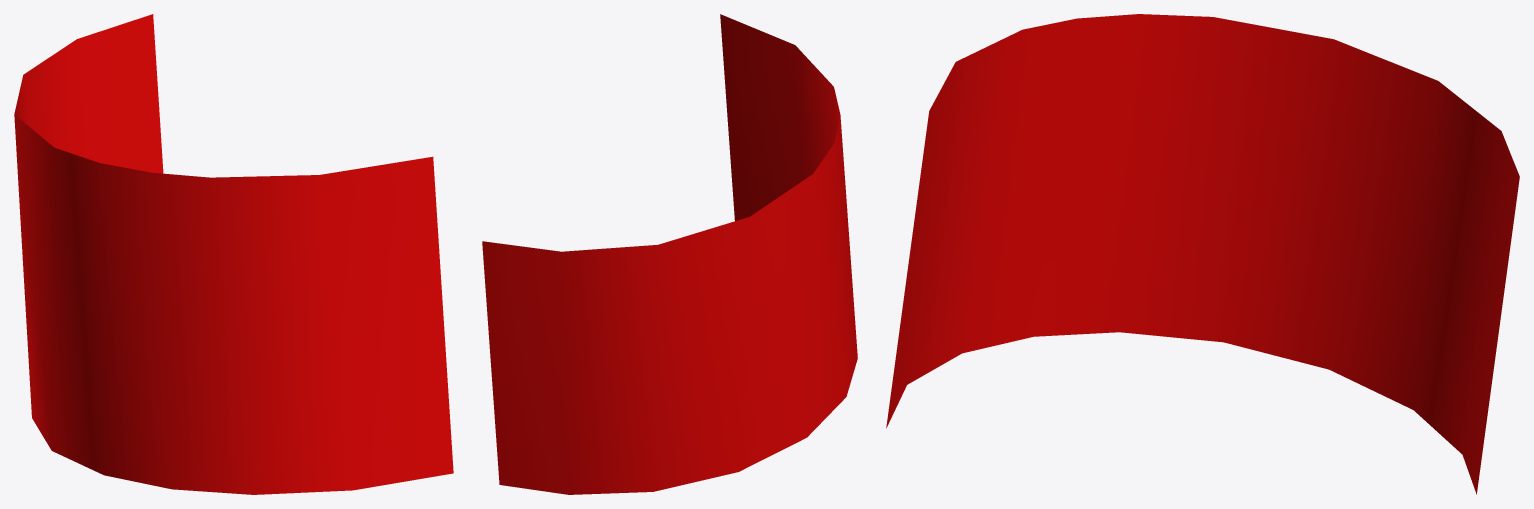
Rendered from original-182.obj.
3 renders of one model, left to right at view 1: azimuth 30°, elevation 25°; view 2: azimuth 150°, elevation 25°; view 3: azimuth 270°, elevation 25°, orthographic. The views are drawn at different scales.
Visible parts, largest first — view 1: Group141/mesh176/mesh176-geometry#mesh176-geometry; view 2: Group141/mesh176/mesh176-geometry#mesh176-geometry; view 3: Group141/mesh176/mesh176-geometry#mesh176-geometry.
Boxes of the visible parts, box(x1,y1,x2,y2) form: Group141/mesh176/mesh176-geometry#mesh176-geometry: box(14, 14, 453, 494); Group141/mesh176/mesh176-geometry#mesh176-geometry: box(482, 14, 857, 494); Group141/mesh176/mesh176-geometry#mesh176-geometry: box(886, 14, 1519, 494).
Bounding box in the file's own units: 0.0635 × 0.0905 × 0.1354.
